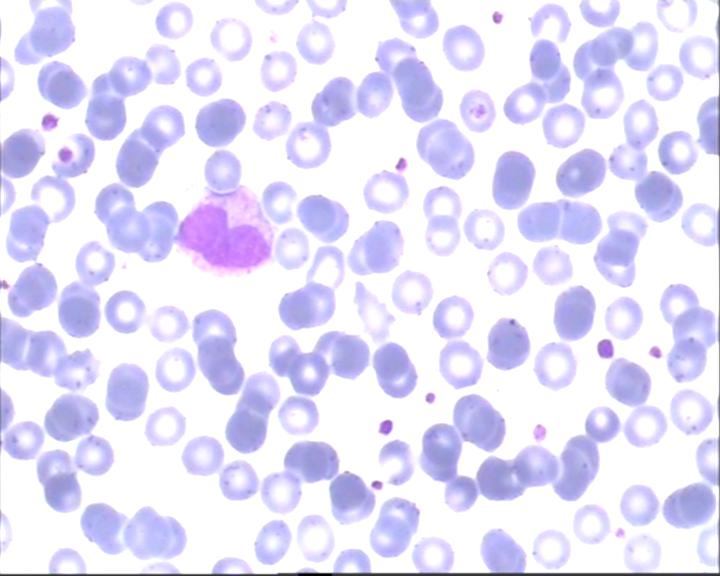mono: (169, 181, 279, 280)
